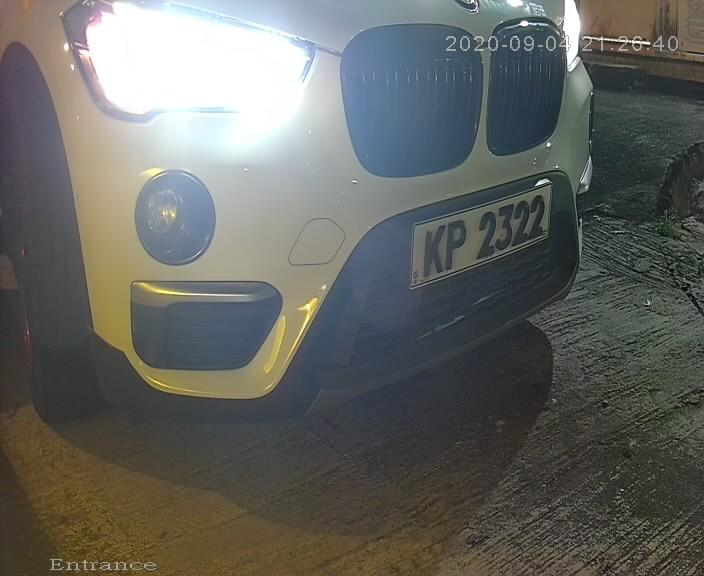License Plate: (397, 160, 570, 302)
